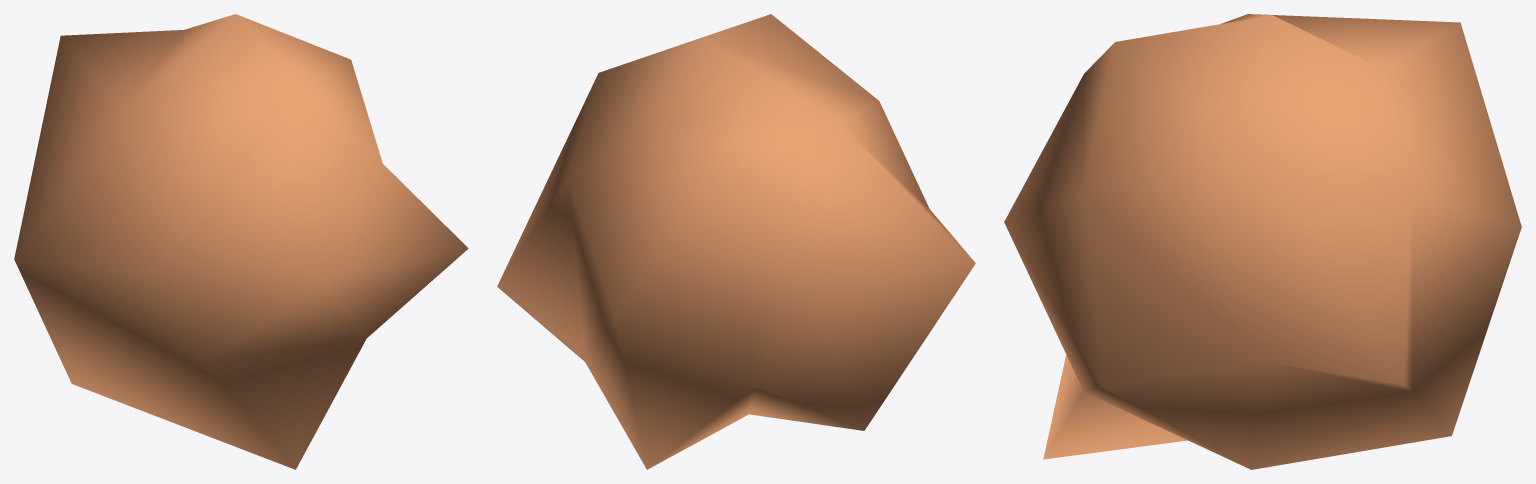
The model's file is booger.fbx.
The picture shows the model from 3 angles, left to right: view 1: azimuth 30°, elevation 25°; view 2: azimuth 150°, elevation 25°; view 3: azimuth 270°, elevation 25°; orthographic projection. The views are drawn at different scales.
Parts seen in each view (by area): view 1: Cube; view 2: Cube; view 3: Cube.
Boxes of the visible parts, x1,y1,x2,y2 form: Cube: [14, 14, 468, 469]; Cube: [497, 14, 975, 469]; Cube: [1004, 14, 1521, 469].
Size of the model in its own units: 213 by 190 by 192.
